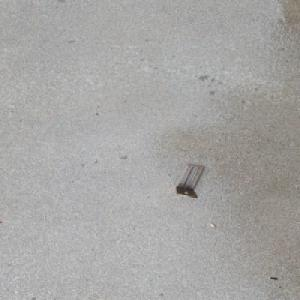MetalPart: (174, 163, 205, 198)
